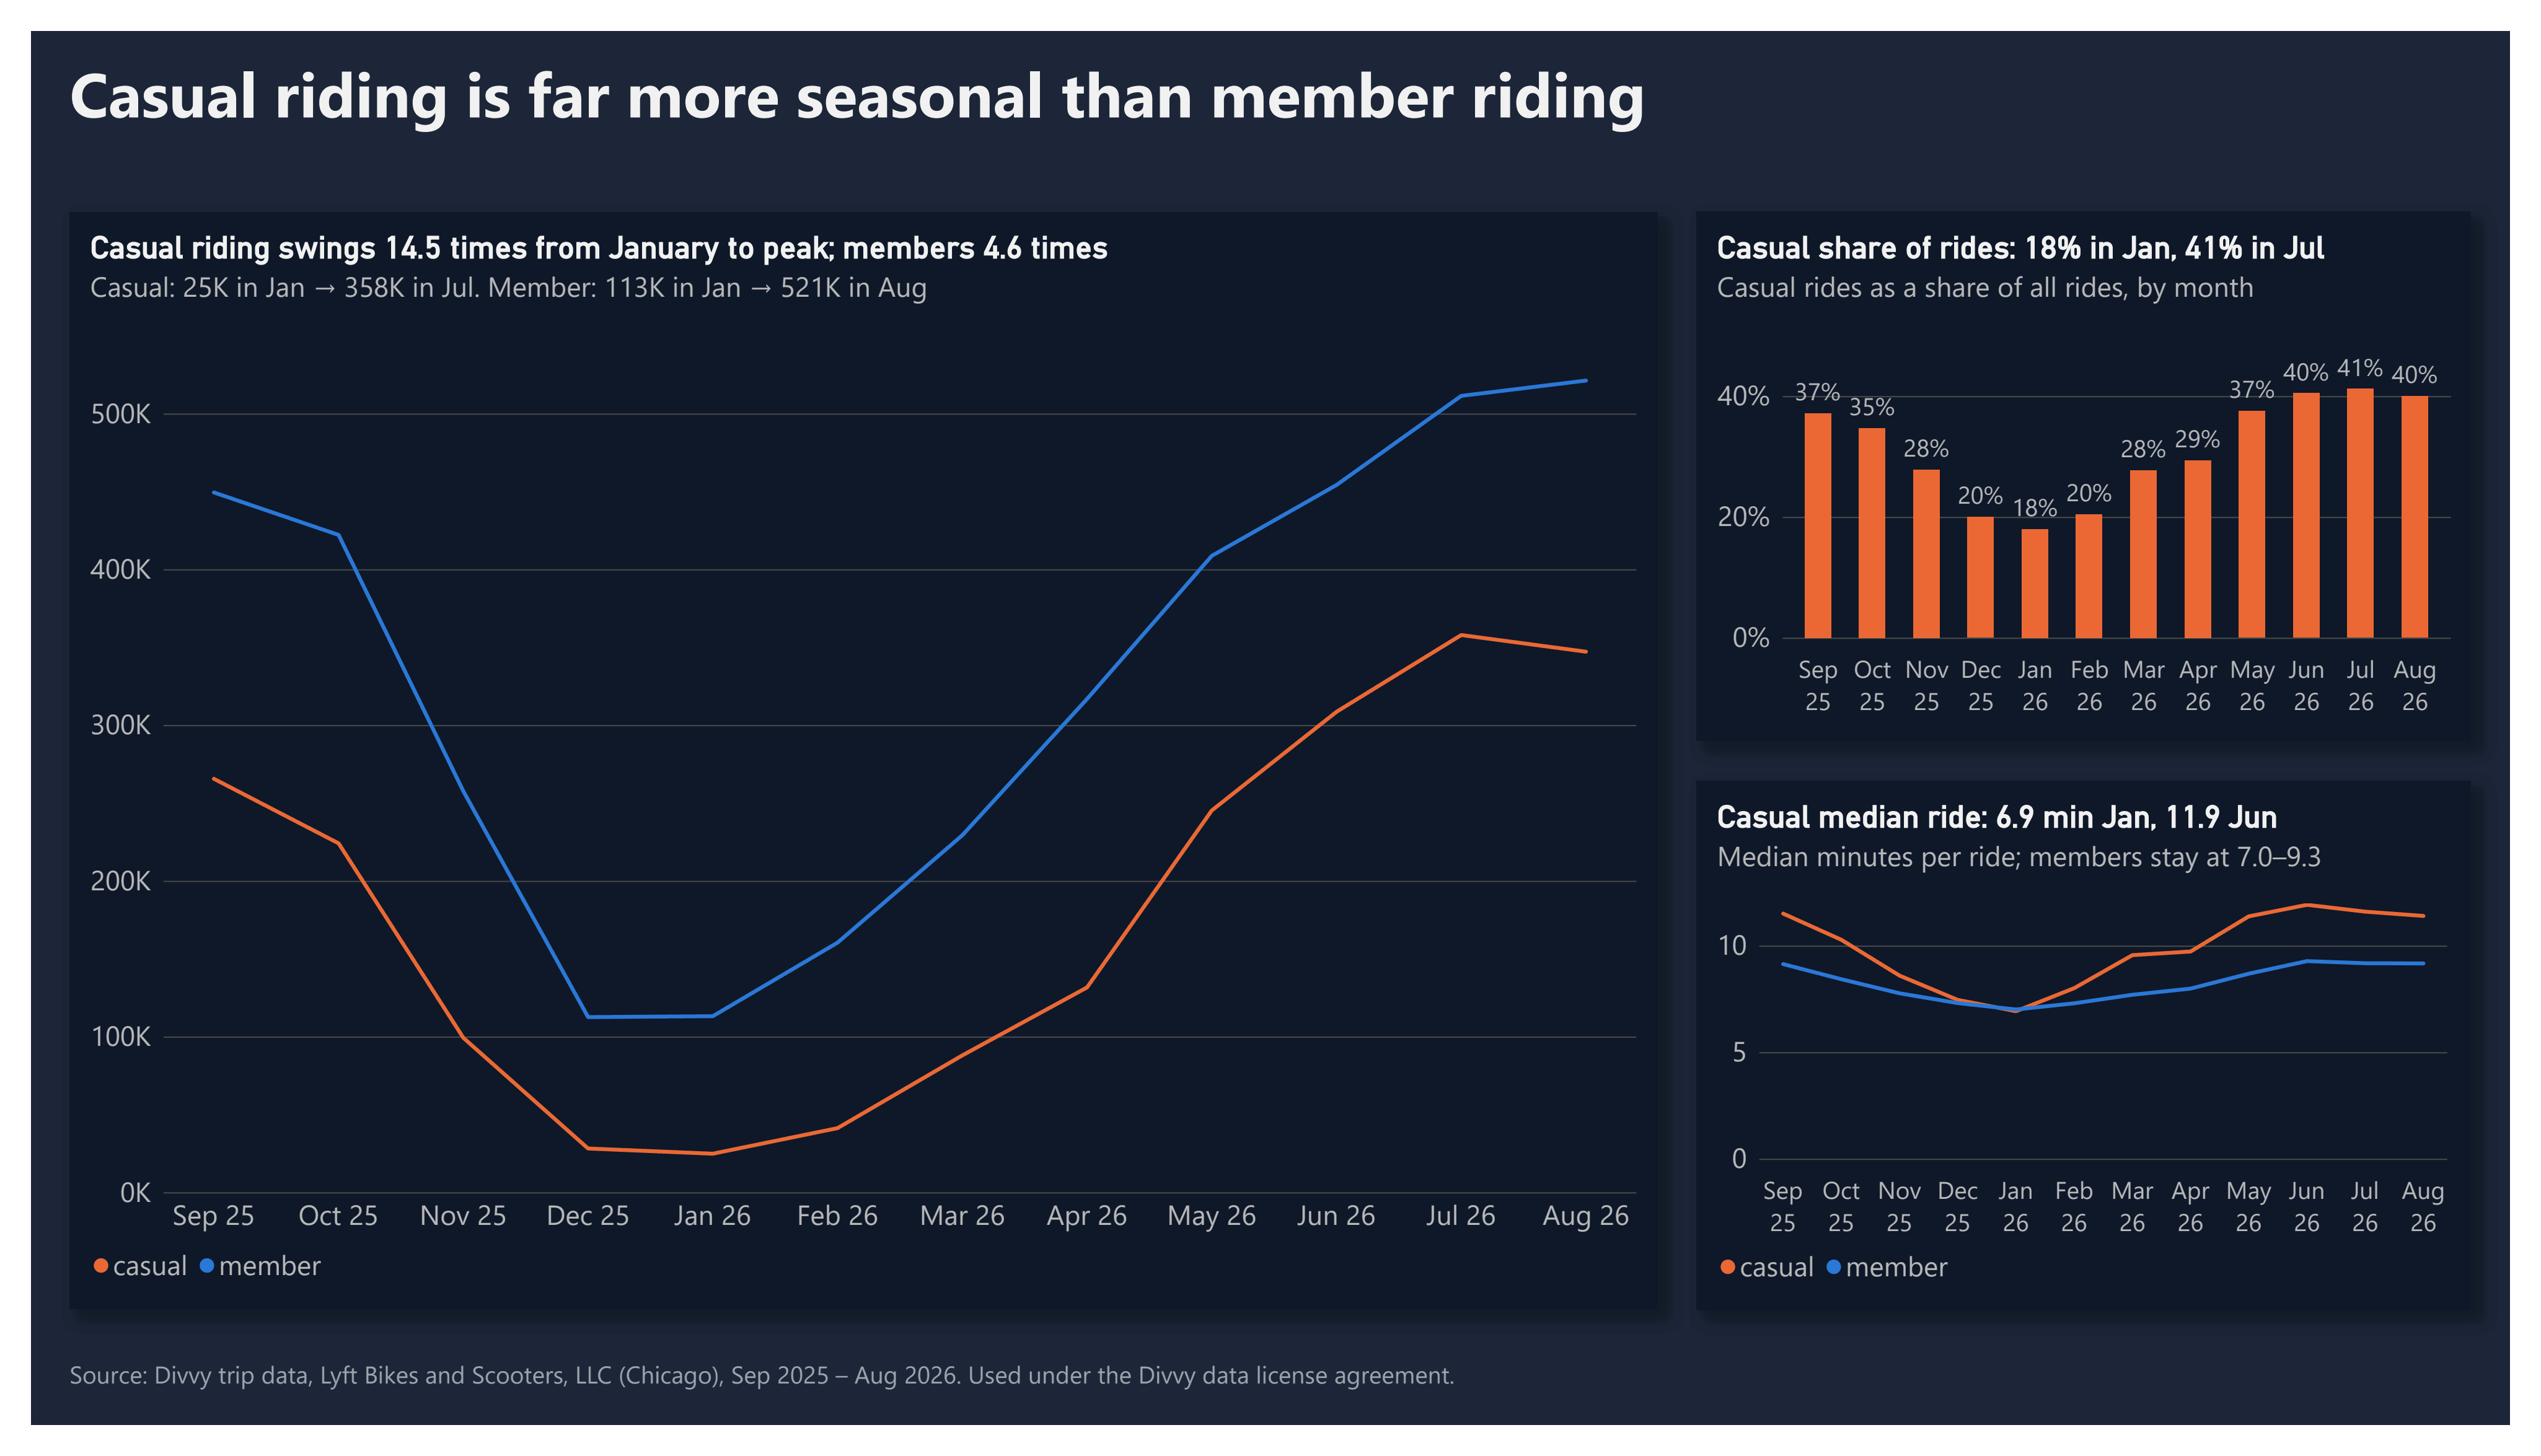

The page's visual inventory and layout, read from the dashboard file:
{"tool":"powerbi","page":{"name":"How seasonal","canvas":[1920,1080],"ordinal":1},"visuals":[{"type":"textbox","box":[30,15,1860,75],"z":0},{"type":"textbox","box":[30,1028,1860,42],"z":1000},{"type":"lineChart","title":"Casual riding swings 14.5 times from January to peak; members 4.6 times","fields":{"Category":["dim_month.month_label"],"Series":["fact_rides.member_casual"],"Y":["fact_rides.Rides"]},"box":[30,140,1230,850],"z":2000},{"type":"clusteredColumnChart","title":"Casual share of rides: 18% in Jan, 41% in Jul","fields":{"Category":["dim_month.month_label"],"Y":["fact_rides.Casual Share"]},"box":[1290.1,140.3,600,410],"z":3000},{"type":"lineChart","title":"Casual median ride: 6.9 min Jan, 11.9 Jun","fields":{"Category":["dim_month.month_label"],"Series":["median_by_month.member_casual"],"Y":["Avg(median_by_month.median_ride_minutes)"]},"box":[1290.1,580.9,600,410],"z":4000}]}

Visuals, with their boxes on the page's 1920x1080 design canvas (x1, y1, x2, y2). These are canvas units, not pixel positions in the 2541x1456 screenshot, which may show the page scaled, cropped or inside an application window:
textbox: x1=30, y1=15, x2=1890, y2=90
textbox: x1=30, y1=1028, x2=1890, y2=1070
"Casual riding swings 14.5 times from January to peak; members 4.6 times" lineChart: x1=30, y1=140, x2=1260, y2=990
"Casual share of rides: 18% in Jan, 41% in Jul" clusteredColumnChart: x1=1290, y1=140, x2=1890, y2=550
"Casual median ride: 6.9 min Jan, 11.9 Jun" lineChart: x1=1290, y1=581, x2=1890, y2=991
